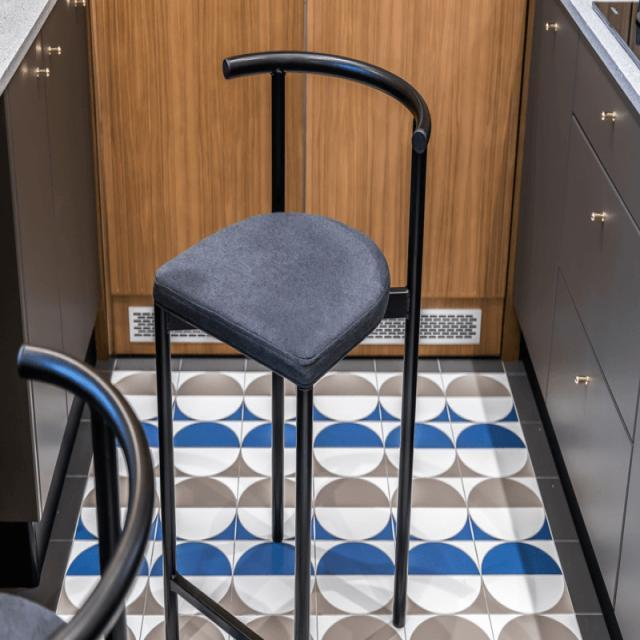chair: (150, 44, 434, 640), (138, 47, 458, 382), (0, 337, 173, 640)
